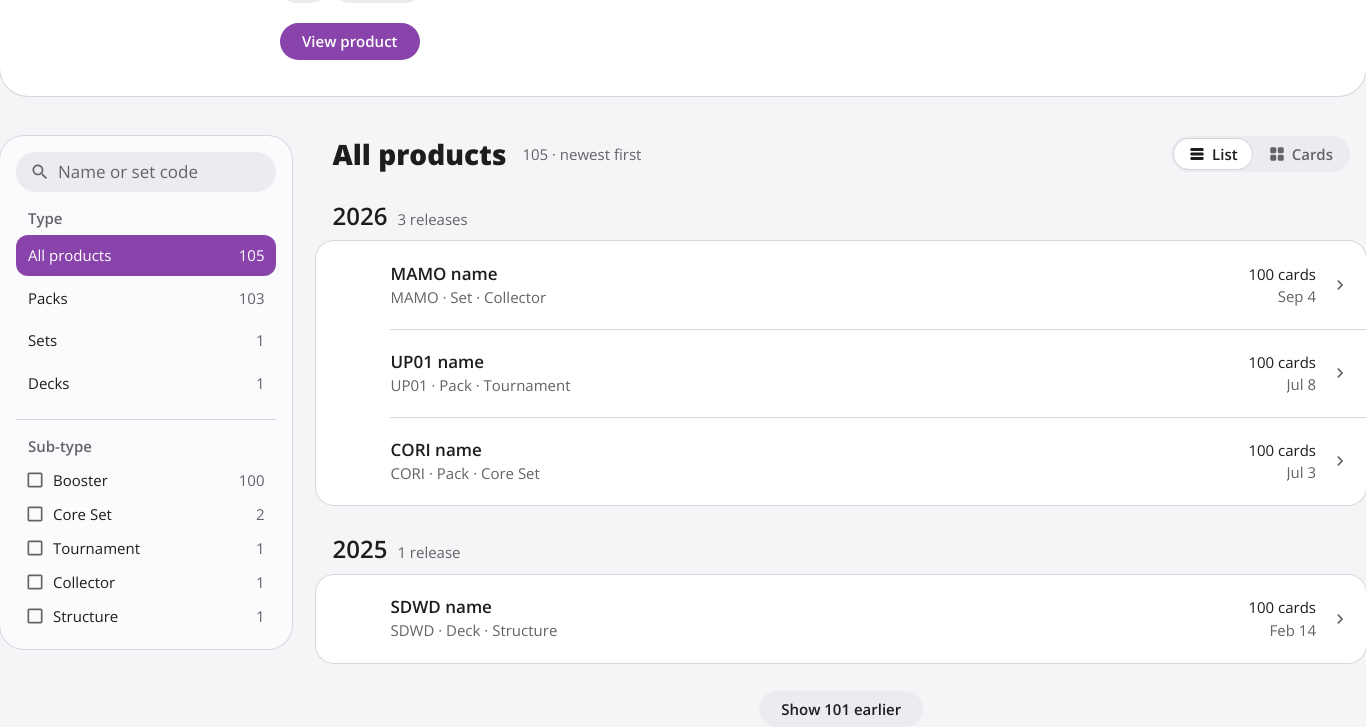
shows every year straight away when the filters leave fewer than 100 products
(page scrolled)
Step 1. Click the button "Decks 1" → (49, 383), box [16, 363, 276, 403]
(page scrolled)
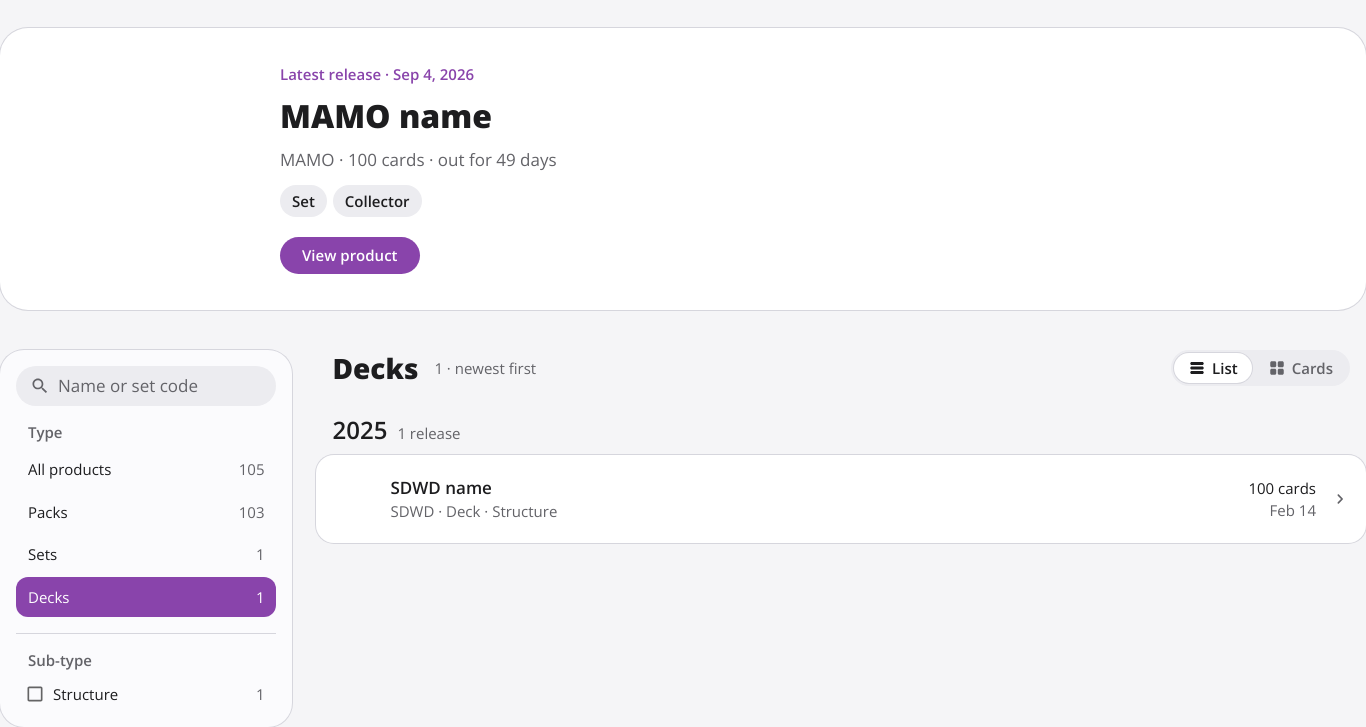
Step 2. Click the button "All products 105" → (70, 469), box [16, 449, 276, 490]
(page scrolled)
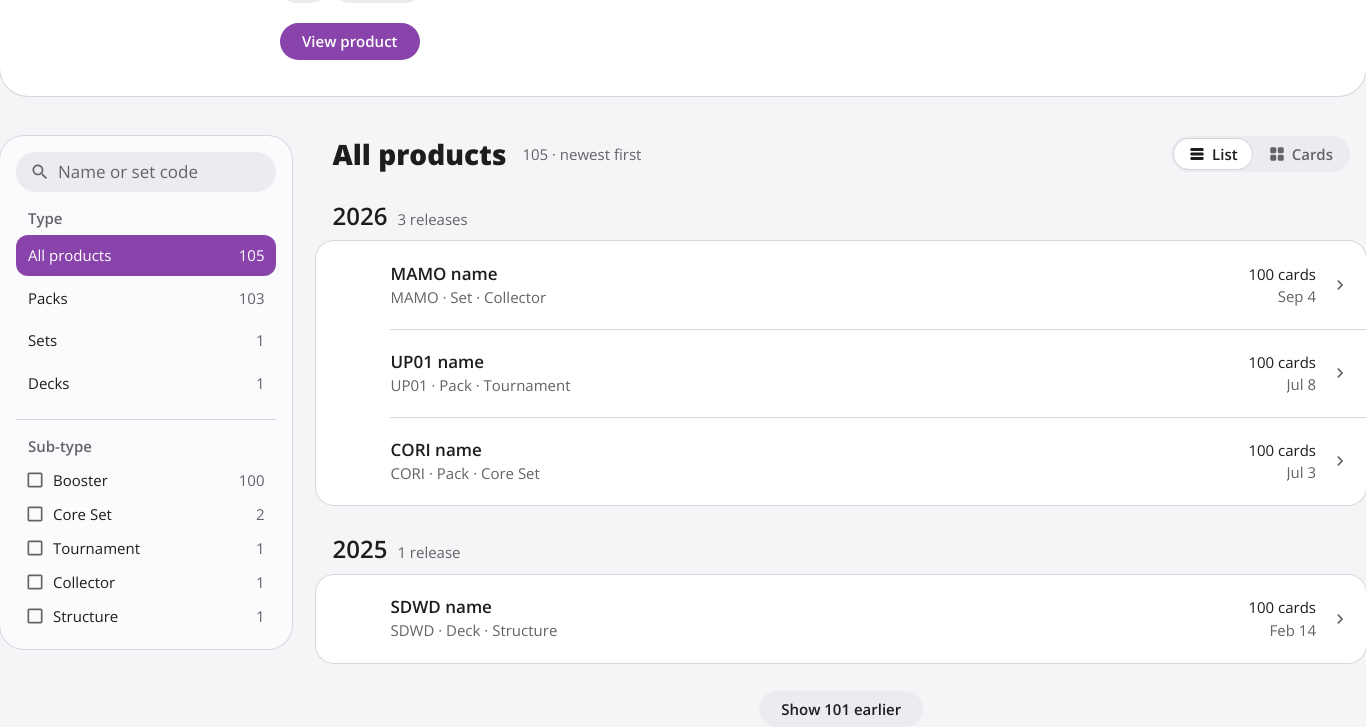
Step 3. Click the checkbox labelled "Core Set 2" → (82, 514), box [25, 504, 264, 524]
(page scrolled)
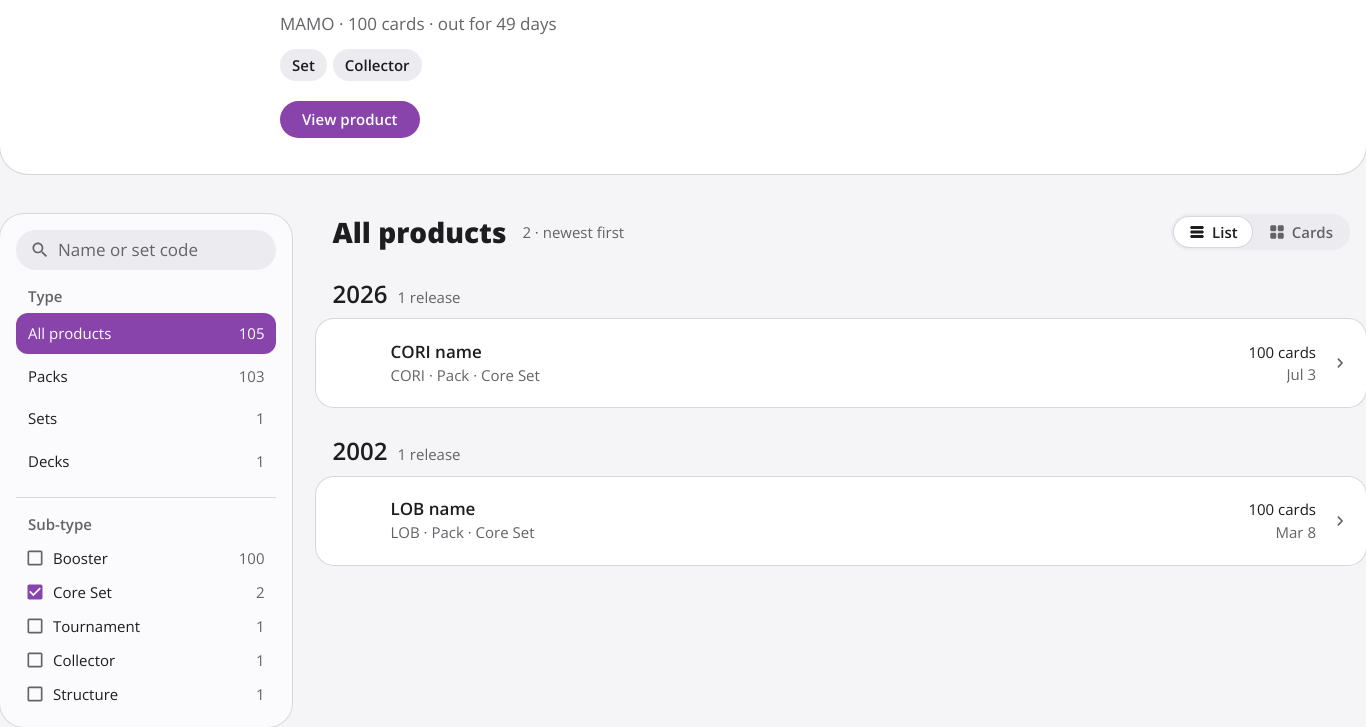
Result: the button "earlier" is gone
